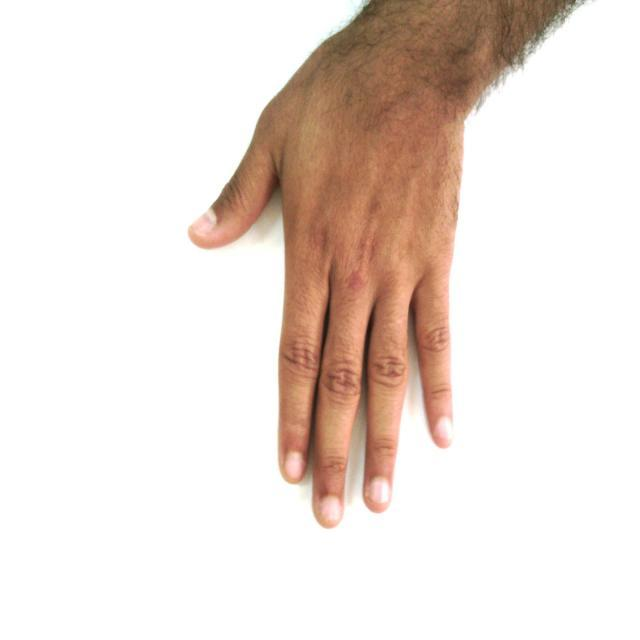Fingernail: (191, 211, 216, 234), (320, 498, 341, 524), (286, 452, 304, 481), (369, 479, 389, 504), (436, 419, 451, 443)
